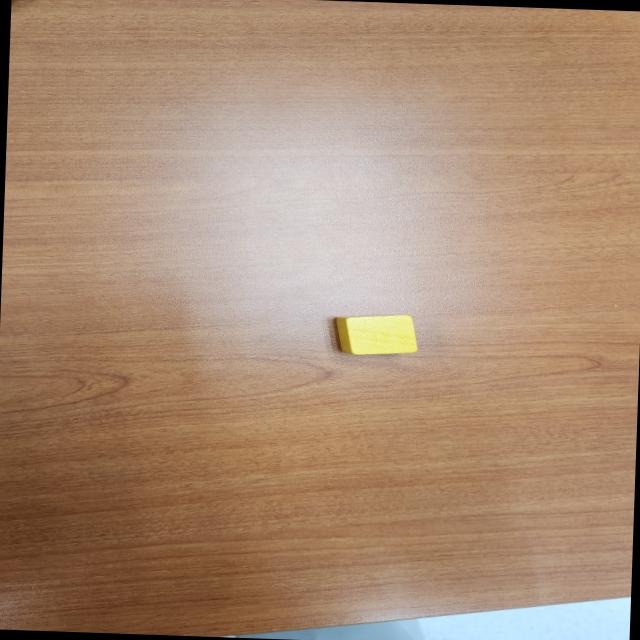yellow: (332, 311, 418, 356)
